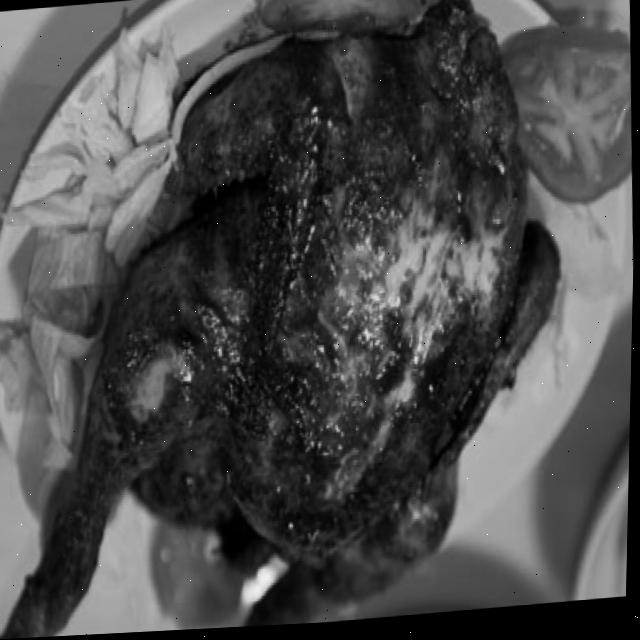鸡肉料理 含炸鸡: (0, 0, 591, 640)
